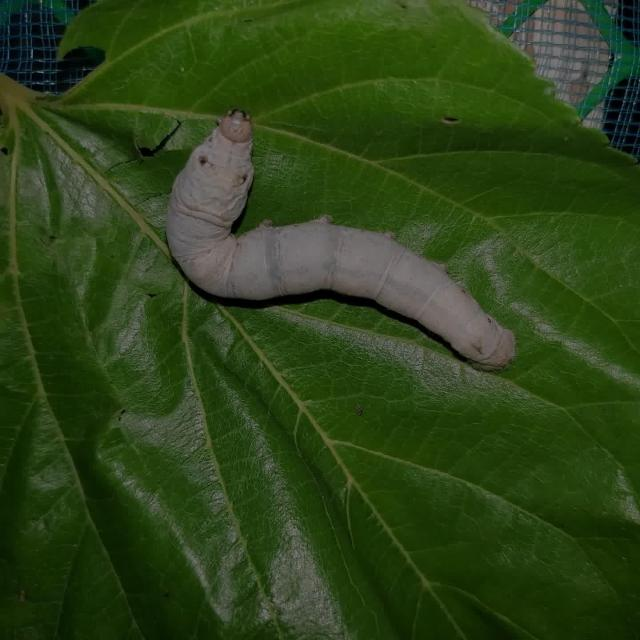Healthy: (155, 97, 524, 376)
